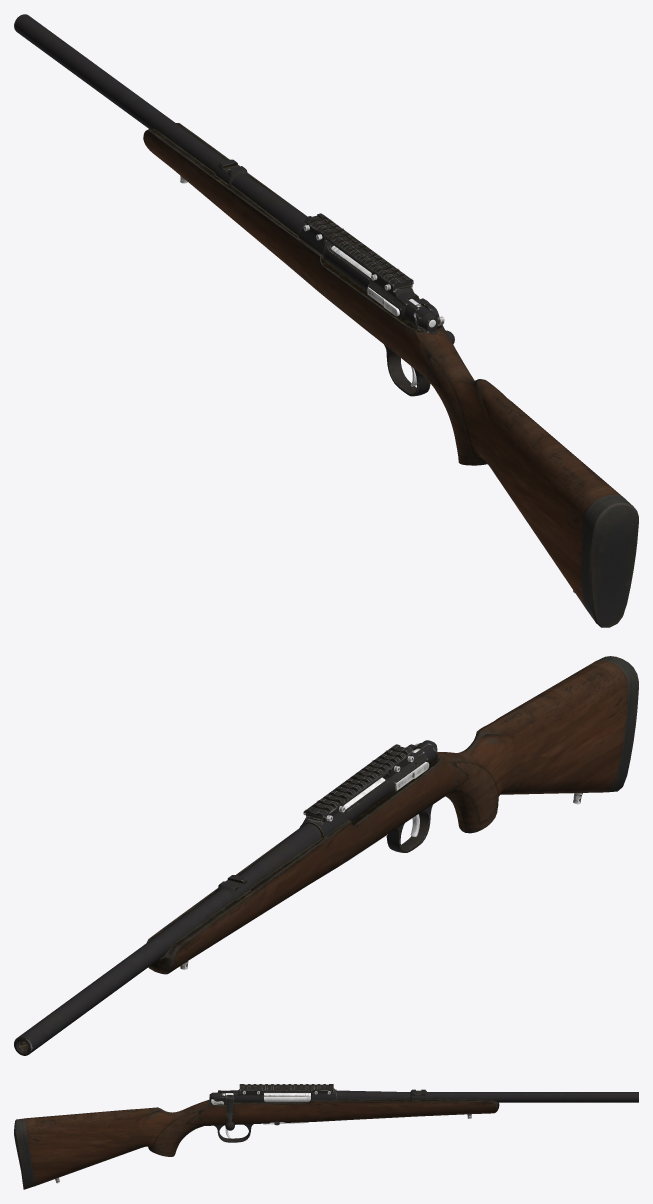
3 views of the same model, one above another, from view 1: azimuth 30°, elevation 25°; view 2: azimuth 150°, elevation 25°; view 3: azimuth 270°, elevation 25° (orthographic). The views are drawn at different scales.
Visible parts, largest first — view 1: ANCHOR, FRAME, BOLT; view 2: ANCHOR, FRAME; view 3: ANCHOR, FRAME, BOLT.
Part boxes in pixels (left/top/right/bottom): ANCHOR: left=14, top=14, right=638, bottom=627; FRAME: left=303, top=213, right=413, bottom=292; BOLT: left=331, top=246, right=454, bottom=344; ANCHOR: left=14, top=656, right=638, bottom=1055; FRAME: left=303, top=744, right=413, bottom=822; ANCHOR: left=14, top=1088, right=638, bottom=1189; FRAME: left=239, top=1084, right=333, bottom=1094; BOLT: left=209, top=1092, right=310, bottom=1130.
Bounding box in the file's own units: 0.0658 × 0.192 × 1.06.
2 materials, 1 textured.
